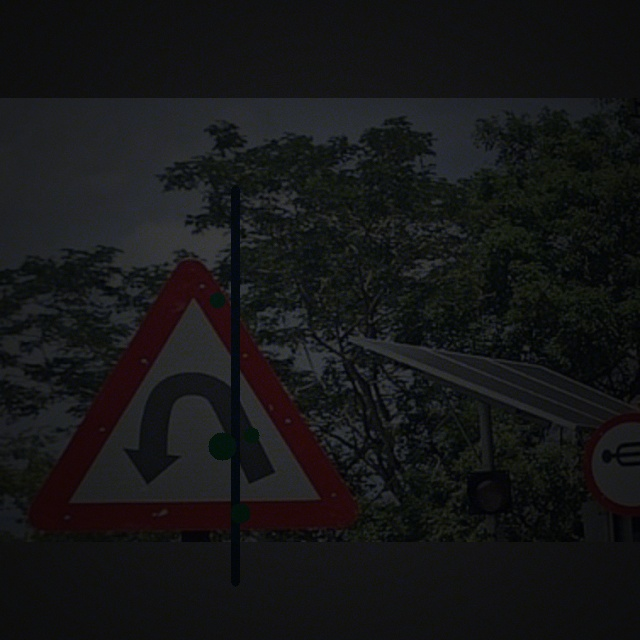Left_Hair_Pin_Bend: (30, 260, 367, 531)
